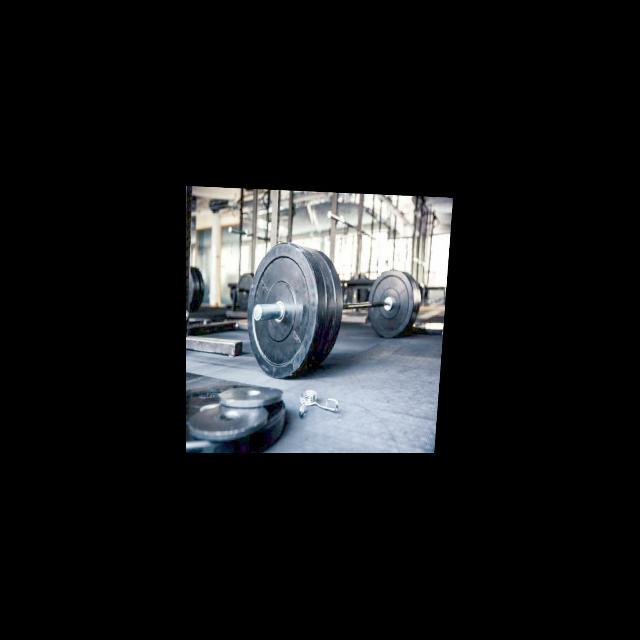barbell: (243, 237, 324, 382)
